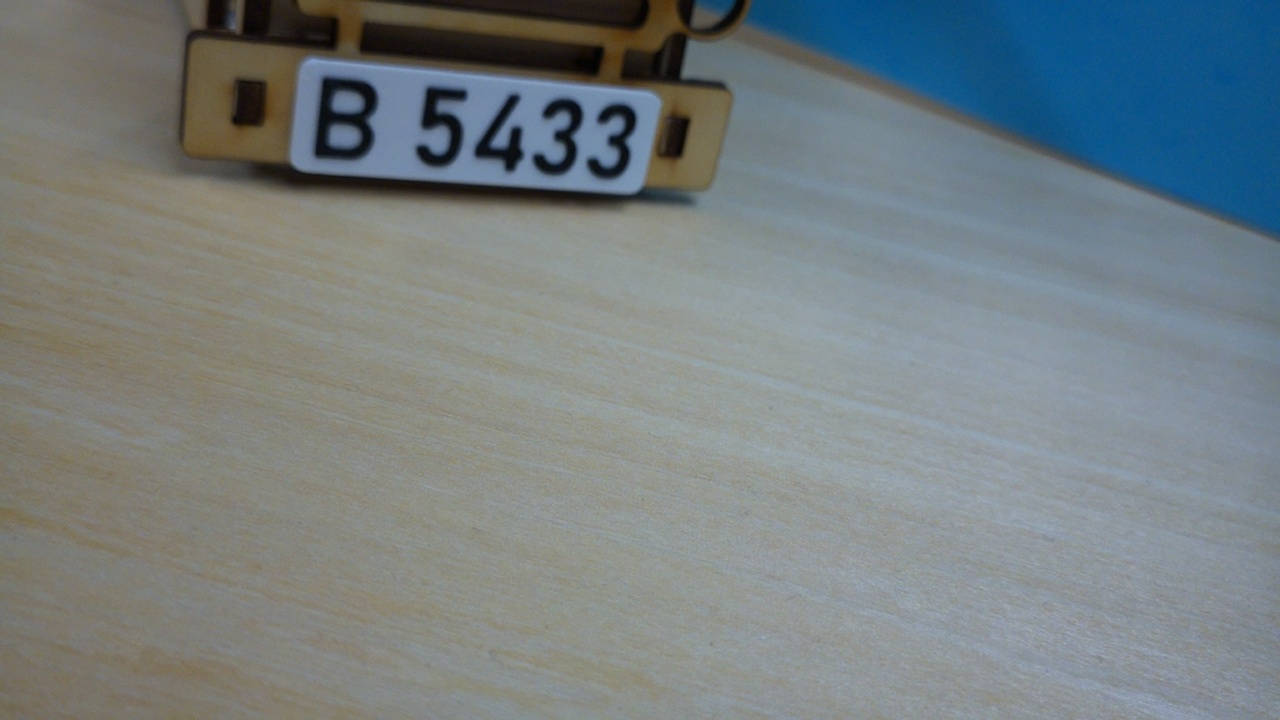license_plate: (288, 57, 663, 199)
